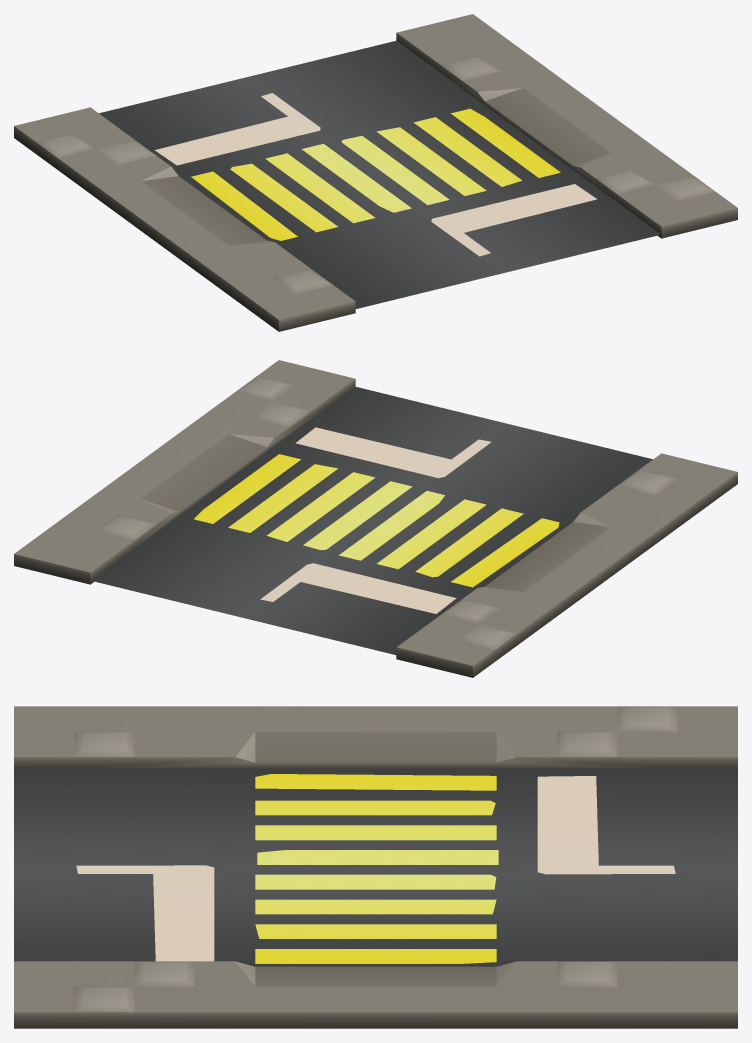
Rendered from Road_1Z.fbx.
The picture shows the model from 3 angles, top to bottom: view 1: azimuth 30°, elevation 25°; view 2: azimuth 150°, elevation 25°; view 3: azimuth 270°, elevation 25°; orthographic projection. The views are drawn at different scales.
Visible parts, largest first — view 1: Road_1Z; view 2: Road_1Z; view 3: Road_1Z.
Part boxes in pixels (x1=…): Road_1Z: x1=14, y1=14, x2=737, y2=331; Road_1Z: x1=14, y1=360, x2=737, y2=677; Road_1Z: x1=14, y1=706, x2=737, y2=1028.
Size of the model in its own units: 1200 by 35.65 by 1200.
